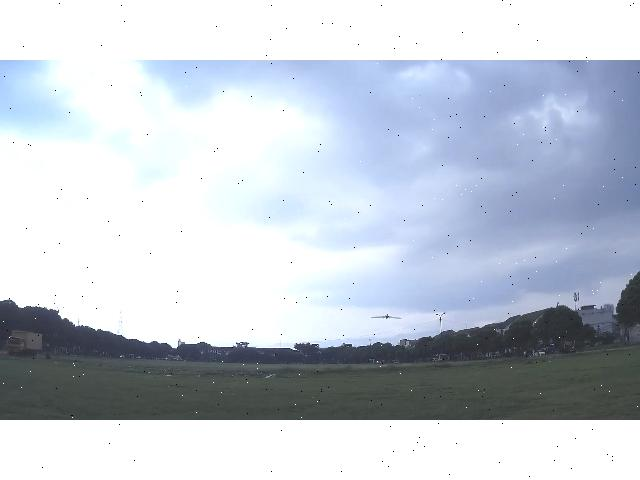Anti-Drone: (370, 315, 402, 319)
